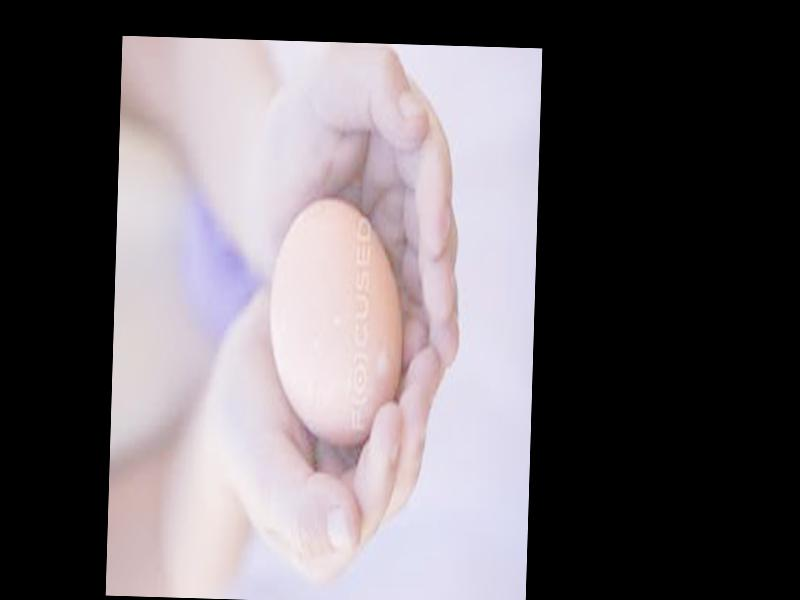Eggs: (264, 193, 406, 444)
